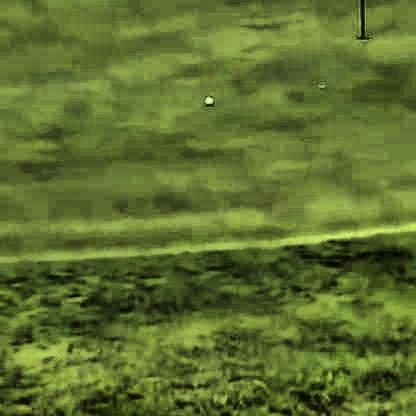golfball: (201, 93, 212, 104)
